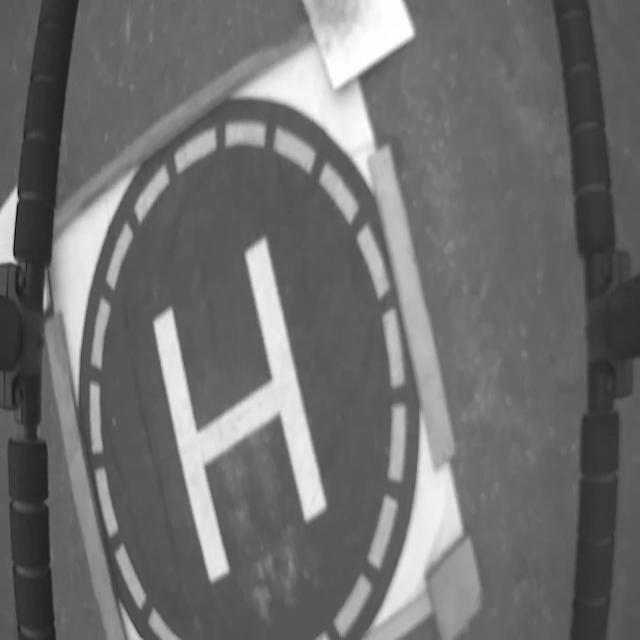Helipad: (154, 238, 329, 584)
